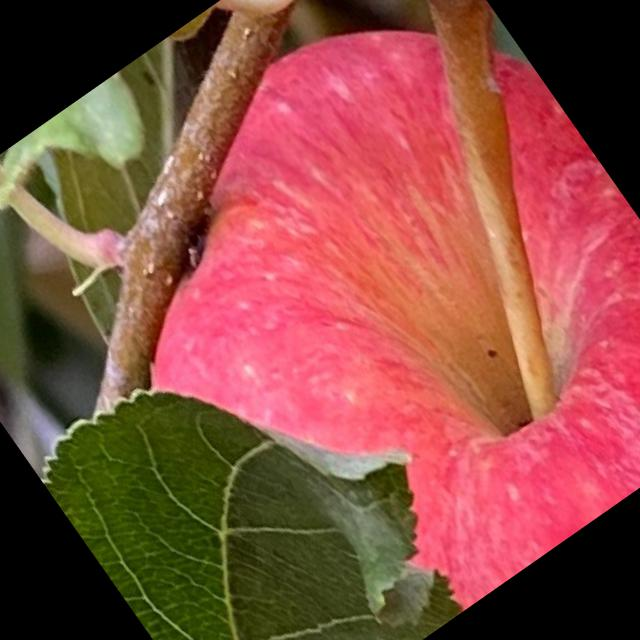Apples: (38, 0, 639, 639)
